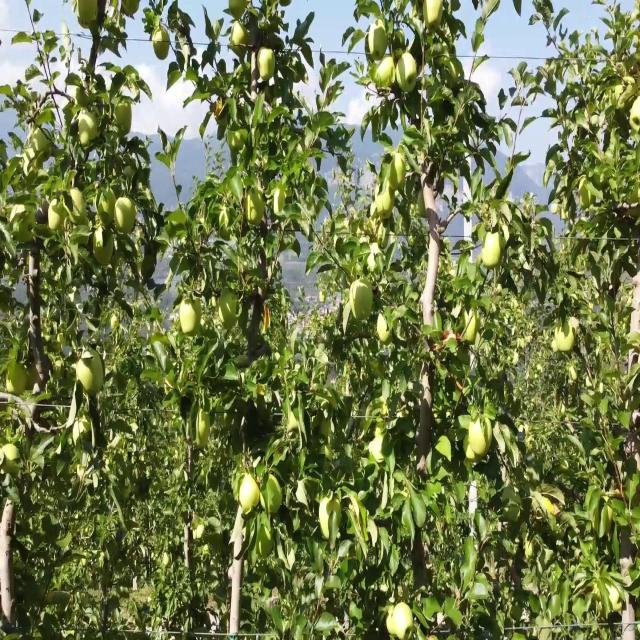apple: (80, 355, 105, 398), (388, 604, 415, 639), (92, 227, 115, 268), (96, 184, 117, 228), (180, 298, 203, 338), (248, 184, 267, 228), (352, 284, 374, 322), (240, 476, 260, 517), (368, 21, 389, 60), (220, 291, 239, 332), (116, 199, 137, 235), (68, 191, 88, 228), (400, 56, 419, 94), (152, 28, 172, 64), (80, 113, 100, 149), (472, 419, 492, 455), (376, 184, 396, 220), (556, 319, 576, 354), (232, 21, 251, 57), (424, 0, 444, 34), (376, 56, 395, 91), (268, 476, 284, 517), (484, 234, 502, 270), (376, 312, 394, 348), (116, 99, 133, 137), (8, 362, 27, 396), (76, 0, 98, 28), (464, 433, 483, 464), (228, 127, 249, 155), (392, 156, 408, 192), (196, 412, 212, 448), (368, 35, 388, 62), (260, 49, 277, 80), (48, 206, 67, 233), (580, 177, 594, 212), (272, 184, 287, 215), (392, 35, 408, 64), (420, 191, 436, 220), (4, 447, 20, 476), (168, 63, 183, 91), (260, 533, 275, 560), (120, 0, 140, 20), (228, 0, 247, 21), (140, 255, 156, 279), (196, 426, 212, 448), (172, 284, 185, 311), (632, 99, 640, 135), (192, 519, 205, 540), (216, 120, 228, 142), (216, 99, 227, 119), (112, 312, 120, 331)
